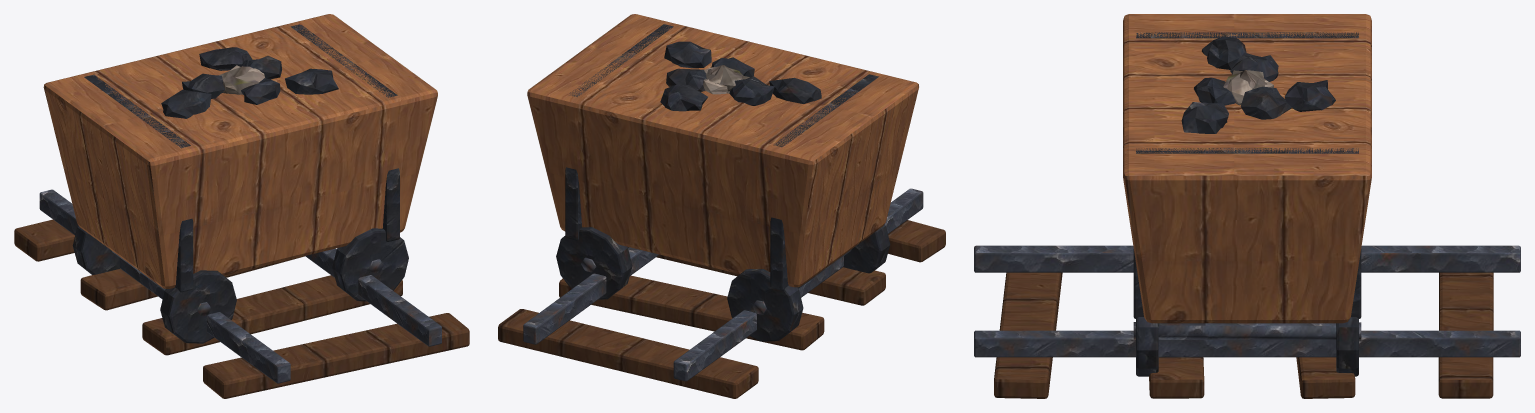
Rendered from mine_cart.glb.
The picture shows the model from 3 angles, left to right: view 1: azimuth 30°, elevation 25°; view 2: azimuth 150°, elevation 25°; view 3: azimuth 270°, elevation 25°; orthographic projection. The views are drawn at different scales.
Parts seen in each view (by area): view 1: model; view 2: model; view 3: model.
Boxes of the visible parts, x1,y1,x2,y2 form: model: [14, 14, 469, 398]; model: [498, 14, 945, 398]; model: [974, 14, 1520, 398].
Bounding box in the file's own units: 0.8445 × 0.6365 × 1.2.
Materials: 6 (6 with a texture image).
